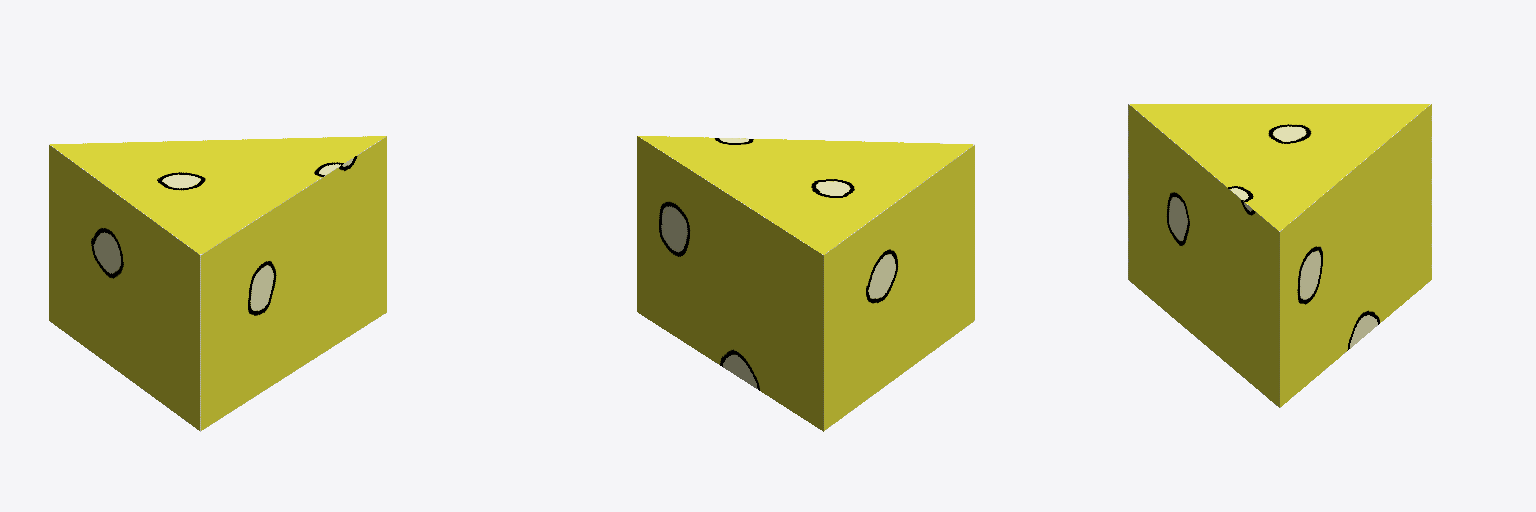
The picture shows the model from 3 angles: view 1: azimuth 30°, elevation 25°; view 2: azimuth 150°, elevation 25°; view 3: azimuth 270°, elevation 25°; orthographic projection.
Visible parts, largest first — view 1: 立方体; view 2: 立方体; view 3: 立方体.
Part boxes in pixels (x1,y1,x2,y2): 立方体: (49, 136, 386, 431); 立方体: (637, 136, 974, 431); 立方体: (1128, 104, 1431, 407).
Size of the model in its own units: 0.9166 by 0.5882 by 0.9166.
Materials: 1 (1 with a texture image).